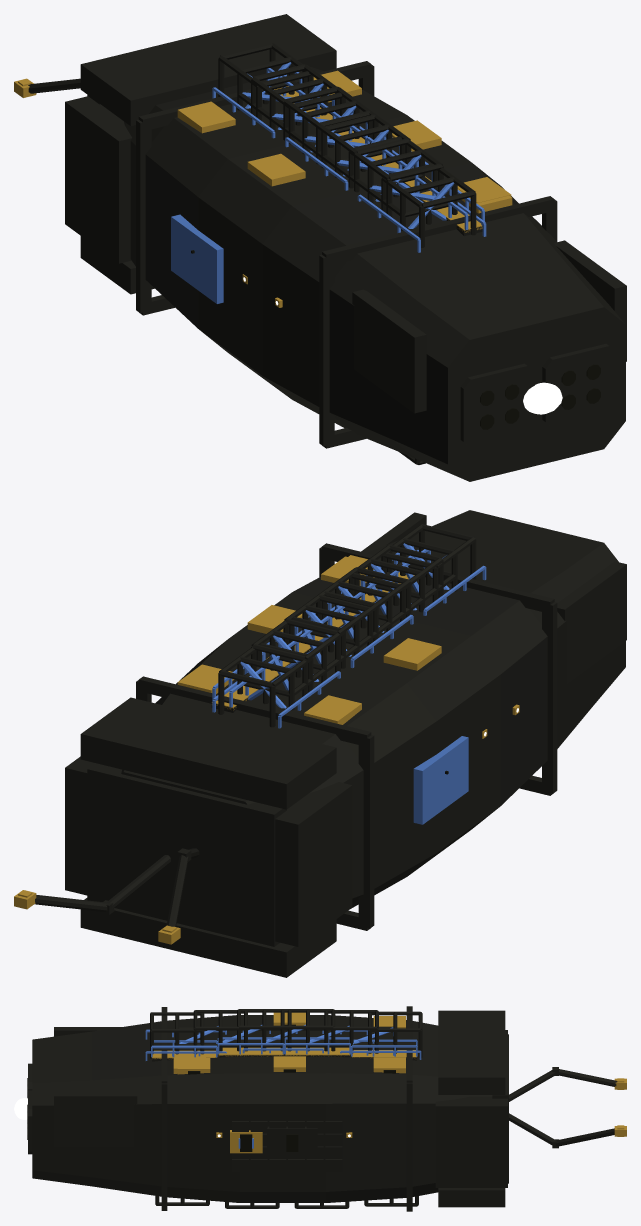
3 views of the same model, one above another, from view 1: azimuth 30°, elevation 25°; view 2: azimuth 150°, elevation 25°; view 3: azimuth 270°, elevation 25° (orthographic). The views are drawn at different scales.
Visible parts, largest first — view 1: RIMWARD_HULL, RIMWARD_ENGINE_GLOW; view 2: RIMWARD_HULL; view 3: RIMWARD_HULL.
Part boxes in pixels (<box>): RIMWARD_HULL: <box>14,14,626,481</box>; RIMWARD_ENGINE_GLOW: <box>523,382,562,414</box>; RIMWARD_HULL: <box>14,510,626,977</box>; RIMWARD_HULL: <box>27,1006,626,1211</box>.
Size of the model in its own units: 5.5 by 5.6 by 16.96.
